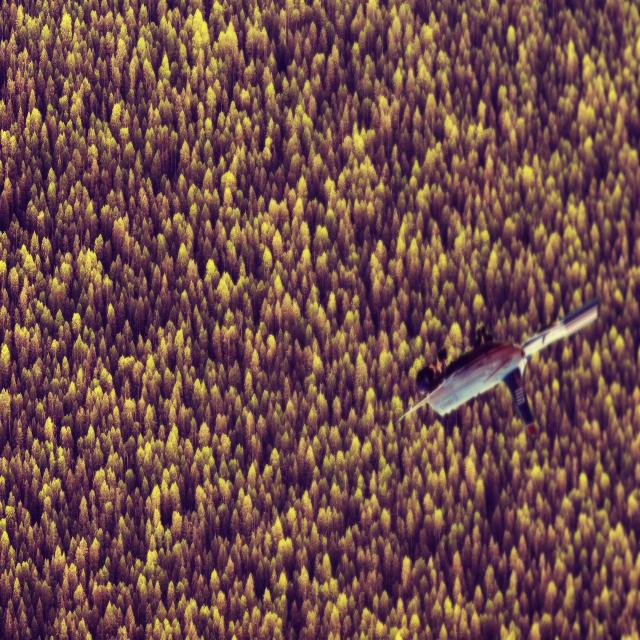airplane: (396, 296, 598, 436)
